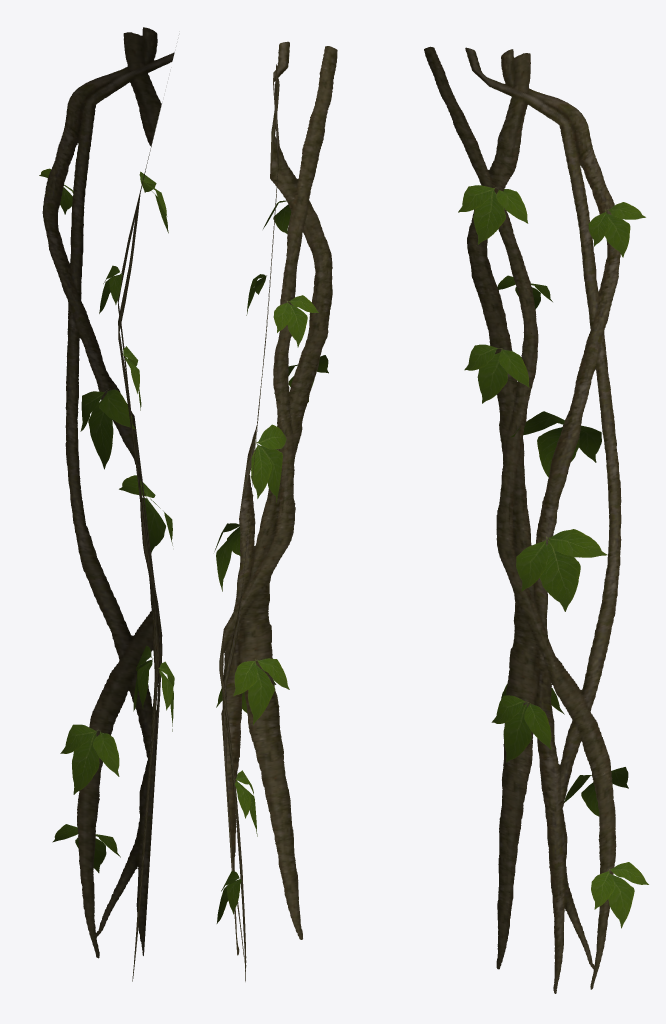
File: SM_Vines_01c.fbx
3 renders of one model, left to right at view 1: azimuth 30°, elevation 25°; view 2: azimuth 150°, elevation 25°; view 3: azimuth 270°, elevation 25°, orthographic. The views are drawn at different scales.
Parts seen in each view (by area): view 1: SM_Vines_01c_LOD0; view 2: SM_Vines_01c_LOD0; view 3: SM_Vines_01c_LOD0.
Boxes of the visible parts, left/top/right/bottom form: SM_Vines_01c_LOD0: left=39, top=27, right=174, bottom=981; SM_Vines_01c_LOD0: left=214, top=41, right=337, bottom=981; SM_Vines_01c_LOD0: left=424, top=46, right=648, bottom=993.
Bounding box in the file's own units: 52.48 × 112 × 465.
